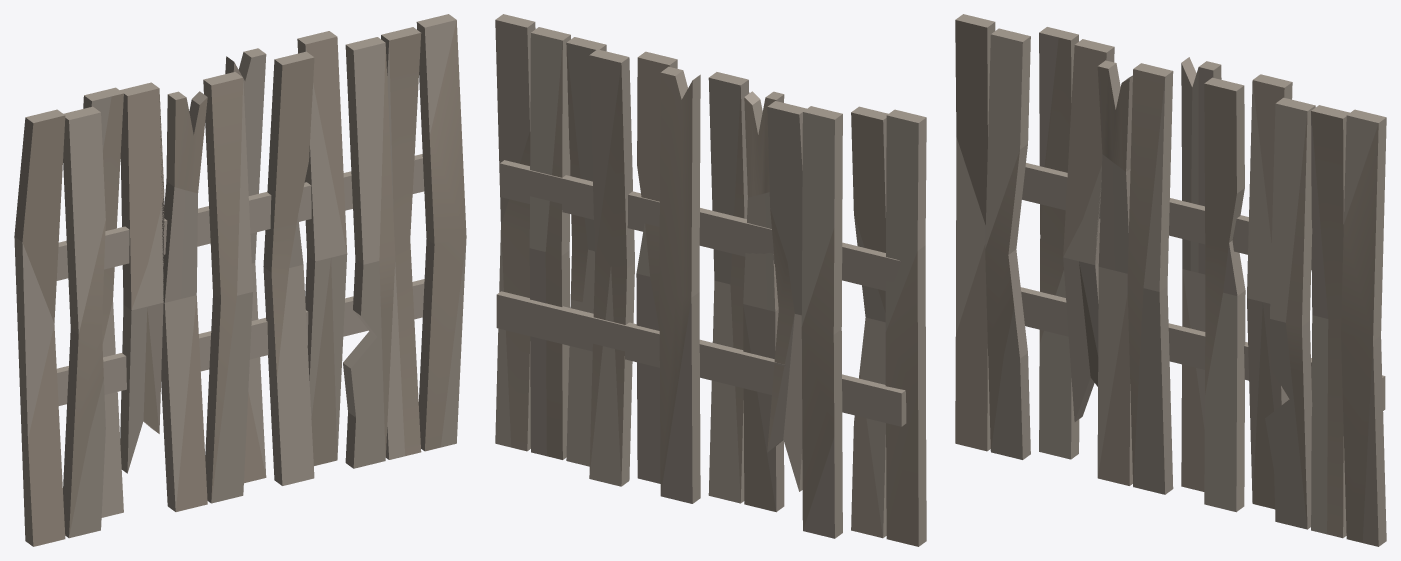
Rendered from fenceWhole.fbx.
3 renders of one model, left to right at view 1: azimuth 30°, elevation 25°; view 2: azimuth 150°, elevation 25°; view 3: azimuth 330°, elevation 25°, orthographic.
Parts seen in each view (by area): view 1: polySurface29; view 2: polySurface29; view 3: polySurface29.
Part boxes in pixels (x1,y1,x2,y2): polySurface29: (14,14,466,546); polySurface29: (495,14,926,546); polySurface29: (955,14,1386,546).
Bounding box in the file's own units: 12.1 × 11.38 × 1.67.
